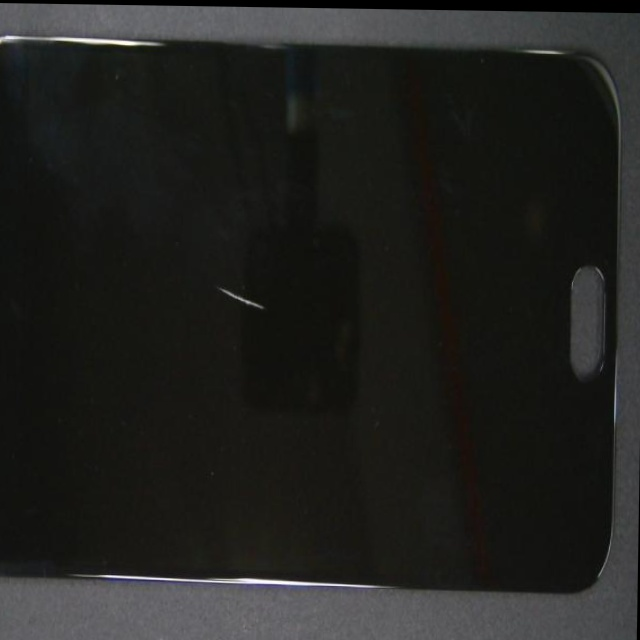scratch: (42, 152, 393, 469)
